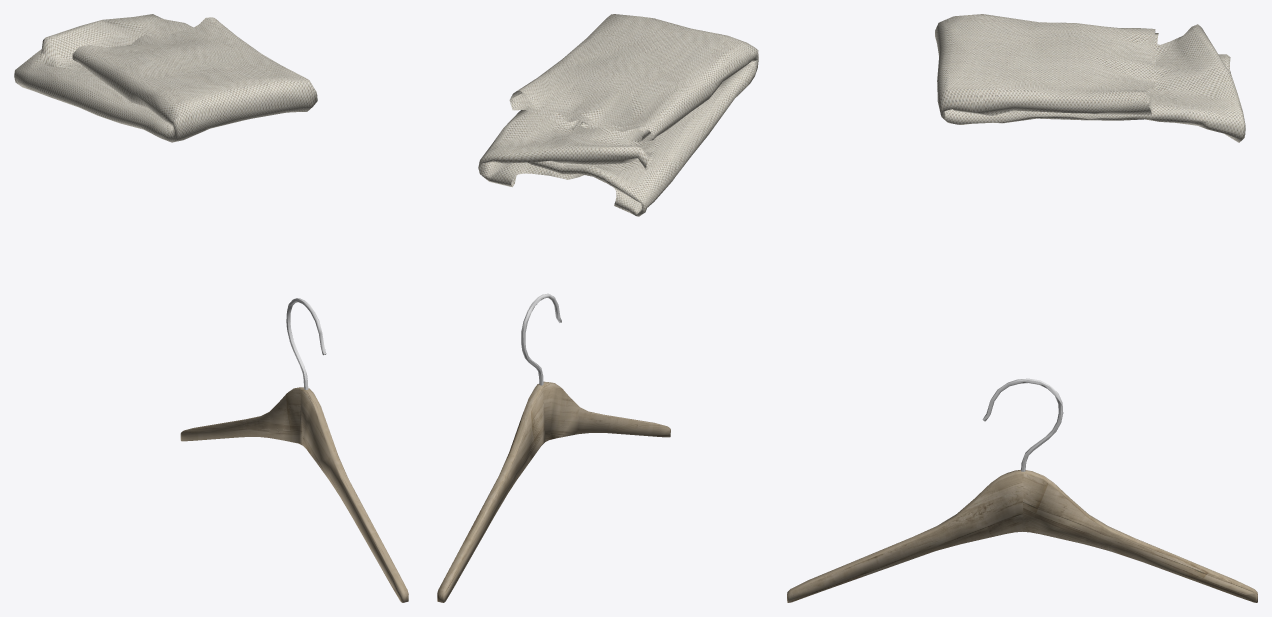
The model's file is rod-cloth_dress2.glb.
The picture shows the model from 3 angles, left to right: view 1: azimuth 30°, elevation 25°; view 2: azimuth 150°, elevation 25°; view 3: azimuth 270°, elevation 25°; orthographic projection. The views are drawn at different scales.
Parts seen in each view (by area): view 1: cloth_dress2.001, Hangers_for_clothes090.001; view 2: cloth_dress2.001, Hangers_for_clothes090.001; view 3: cloth_dress2.001, Hangers_for_clothes090.001.
Boxes of the visible parts, left/top/right/bottom form: cloth_dress2.001: left=14, top=14, right=317, bottom=142; Hangers_for_clothes090.001: left=180, top=298, right=408, bottom=602; cloth_dress2.001: left=478, top=14, right=758, bottom=216; Hangers_for_clothes090.001: left=437, top=293, right=670, bottom=602; cloth_dress2.001: left=935, top=14, right=1245, bottom=142; Hangers_for_clothes090.001: left=787, top=378, right=1257, bottom=602.
Size of the model in its own units: 0.2282 by 0.5212 by 0.4372.
Materials: 3 (2 with a texture image).
